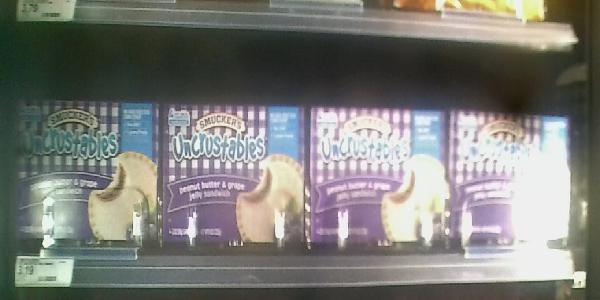icecream: (161, 96, 302, 254), (16, 99, 159, 251), (309, 103, 448, 259), (450, 108, 583, 254)
